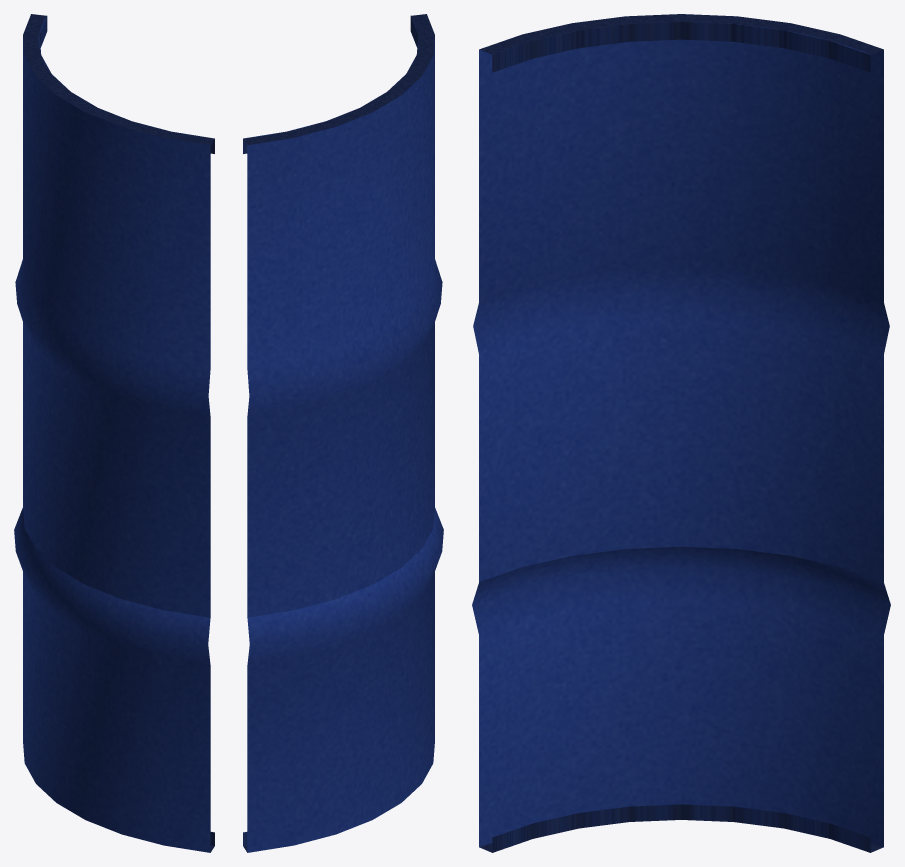
Rendered from barrel_fragment.glb.
The picture shows the model from 3 angles, left to right: view 1: azimuth 30°, elevation 25°; view 2: azimuth 150°, elevation 25°; view 3: azimuth 270°, elevation 25°; orthographic projection. The views are drawn at different scales.
Parts seen in each view (by area): view 1: Cylinder.001; view 2: Cylinder.001; view 3: Cylinder.001.
Part boxes in pixels (box(x1,y1,x2,y2)): Cylinder.001: box(14, 14, 214, 852); Cylinder.001: box(243, 14, 443, 852); Cylinder.001: box(472, 14, 890, 852).
Size of the model in its own units: 0.4871 by 4 by 1.9.
Materials: 1 (1 with a texture image).
